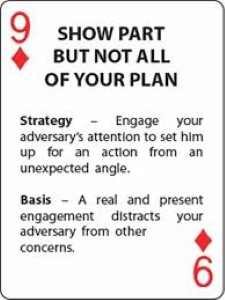NineOfDiamonds: (1, 1, 225, 300)
